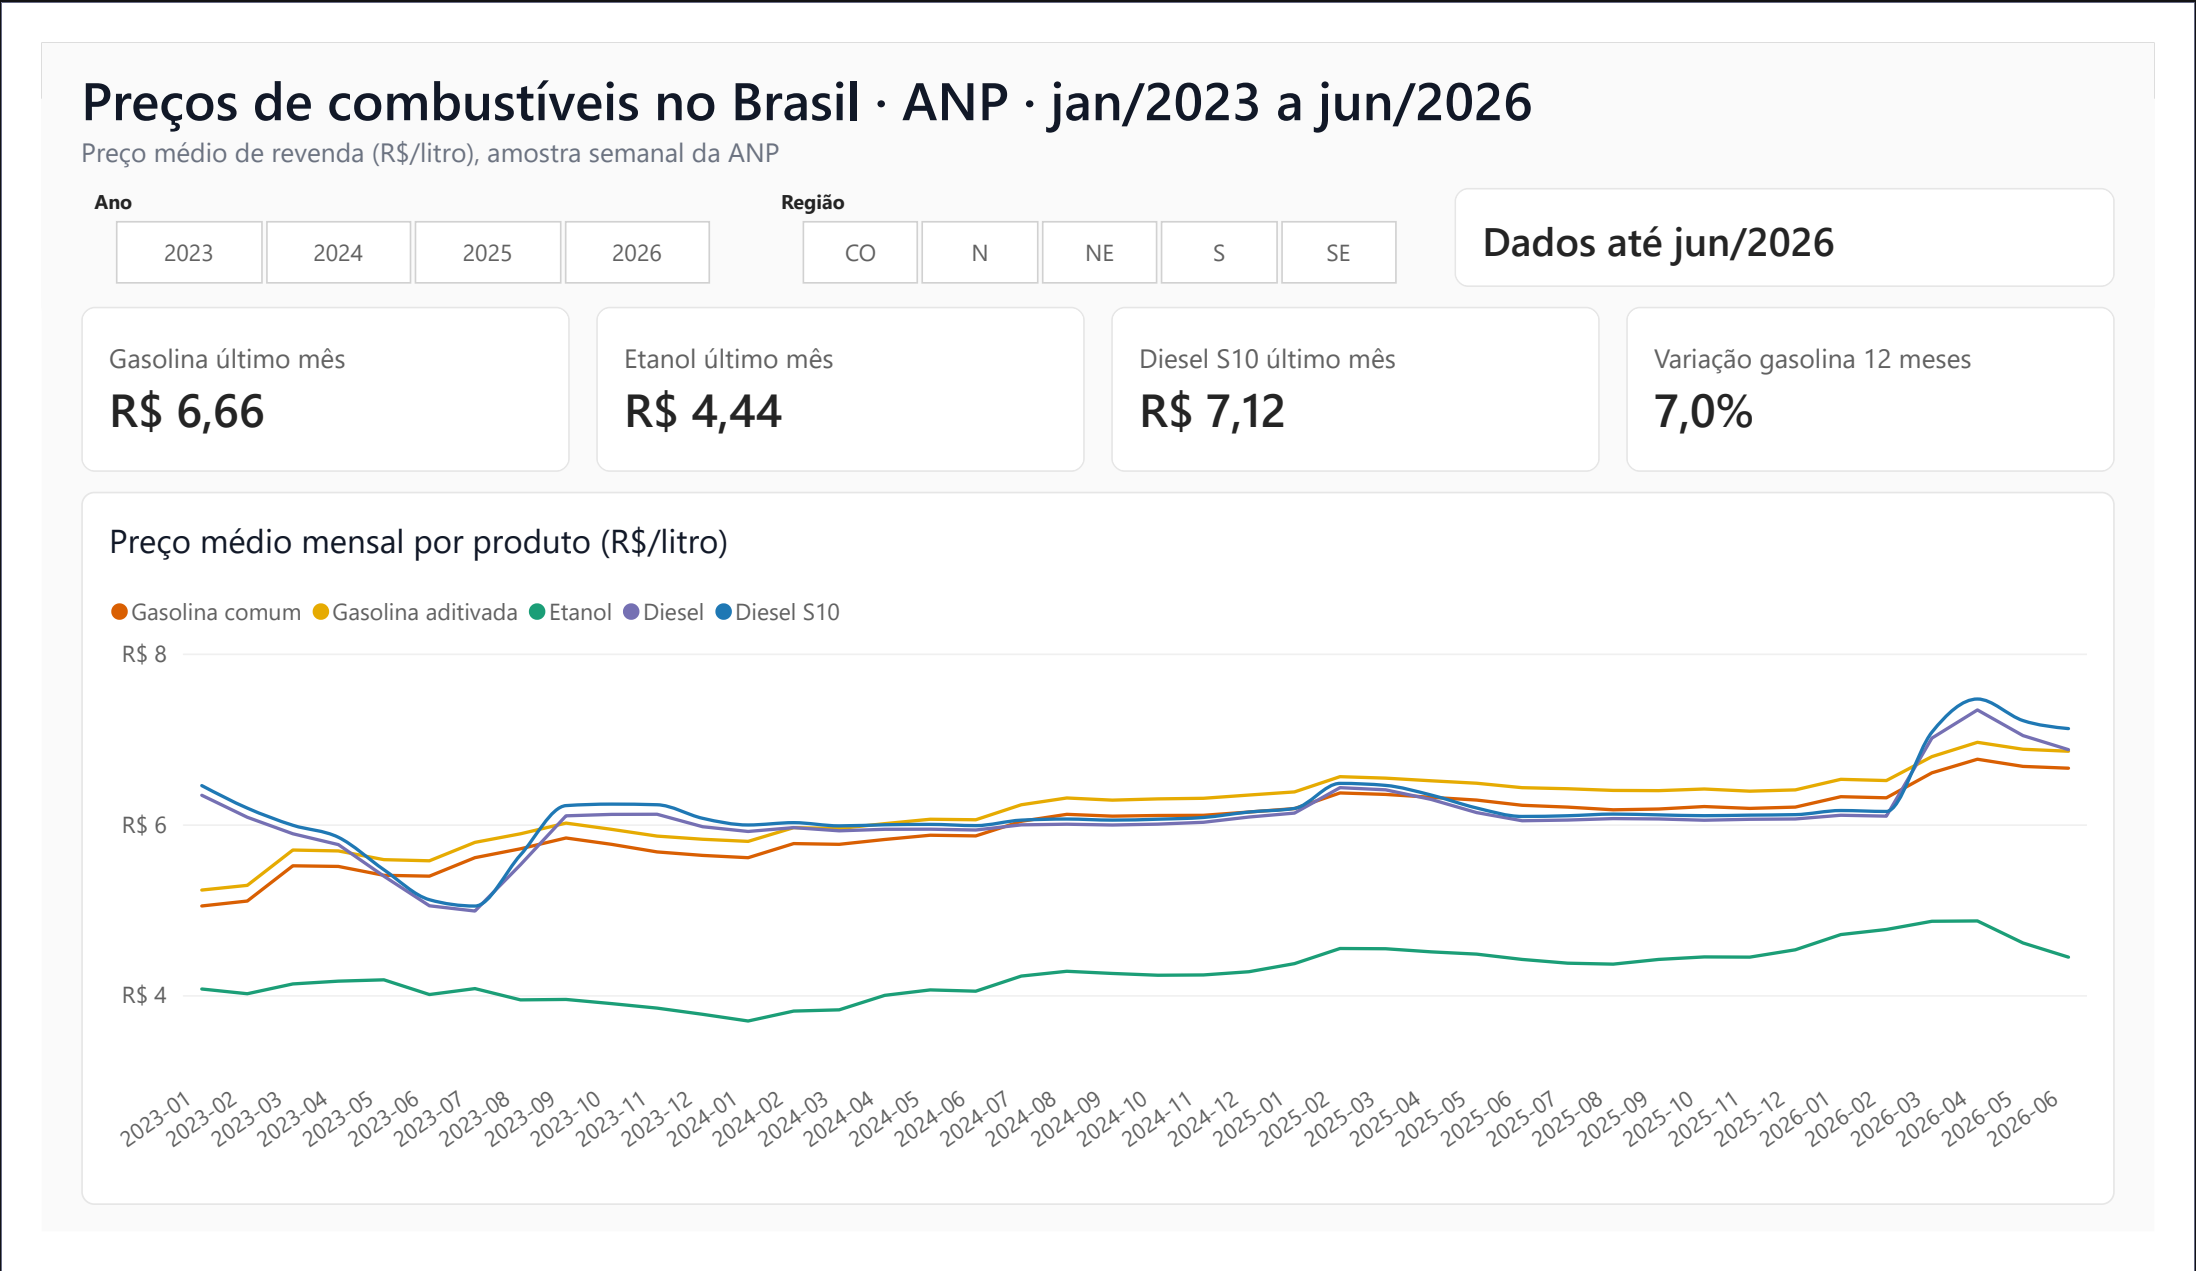

The page's visual inventory and layout, read from the dashboard file:
{"tool":"powerbi","page":{"name":"Visão geral","canvas":[1280,720],"ordinal":0},"visuals":[{"type":"textbox","box":[24.3,11.6,1231.9,76.4],"z":0},{"type":"slicer","fields":{"Values":["Calendario.Ano"]},"box":[24.3,88,400,60],"z":1000},{"type":"slicer","fields":{"Values":["uf_regiao.regiao"]},"box":[440,88,400,60],"z":2000},{"type":"cardVisual","title":"Gasolina · último mês","fields":{"Data":["_Medidas.Gasolina último mês"]},"box":[24,160,296,100],"z":3000},{"type":"cardVisual","fields":{"Data":["_Medidas.Etanol último mês"]},"box":[336,160,296,100],"z":4000},{"type":"cardVisual","fields":{"Data":["_Medidas.Diesel S10 último mês"]},"box":[648,160,296,100],"z":5000},{"type":"cardVisual","fields":{"Data":["_Medidas.Variação gasolina 12 meses"]},"box":[960,160,296,100],"z":6000},{"type":"lineChart","title":"Preço médio mensal por produto (R$/litro)","fields":{"Category":["Calendario.AnoMes"],"Series":["dim_produto.produto_nome"],"Y":["_Medidas.Preço médio"]},"box":[24,272,1232,432],"z":7000},{"type":"cardVisual","title":"Dados até","fields":{"Data":["_Medidas.Último mês"]},"box":[856,88,399.8,60.2],"z":8000}]}

Visuals, with their boxes in screenshot pixels (x1, y1, x2, y2), scaled from the page's 1280x720 canvas onto the 2196x1271 screenshot:
textbox: (42, 20, 2155, 155)
slicer - Calendario.Ano: (42, 155, 728, 261)
slicer - uf_regiao.regiao: (755, 155, 1441, 261)
"Gasolina · último mês" cardVisual: (41, 282, 549, 459)
cardVisual - _Medidas.Etanol último mês: (576, 282, 1084, 459)
cardVisual - _Medidas.Diesel S10 último mês: (1112, 282, 1620, 459)
cardVisual - _Medidas.Variação gasolina 12 meses: (1647, 282, 2155, 459)
"Preço médio mensal por produto (R$/litro)" lineChart: (41, 480, 2155, 1243)
"Dados até" cardVisual: (1469, 155, 2154, 262)
